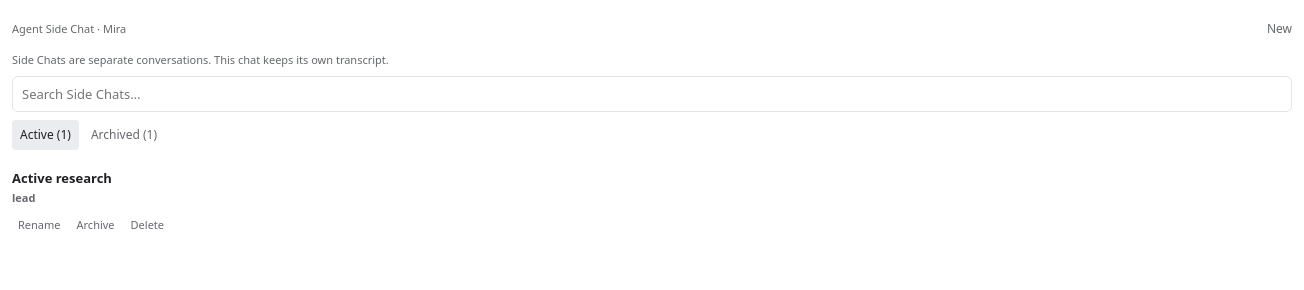
Scenario: SideChatList › surfaces a failed archive instead of dropping it
This screenshot has width=1304, height=290.
Click the button with aria-label "Archive Active research" at point(96, 225), box [70, 211, 121, 239]
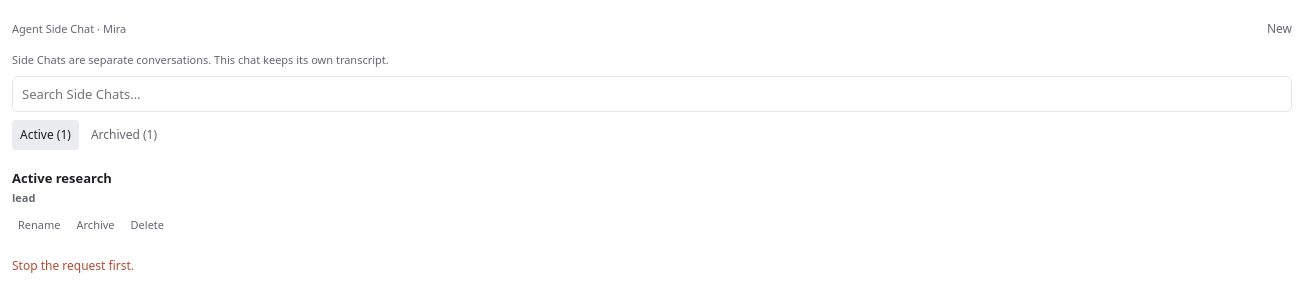
expect the message reads "Stop the request first.": met, box [12, 257, 134, 274]
